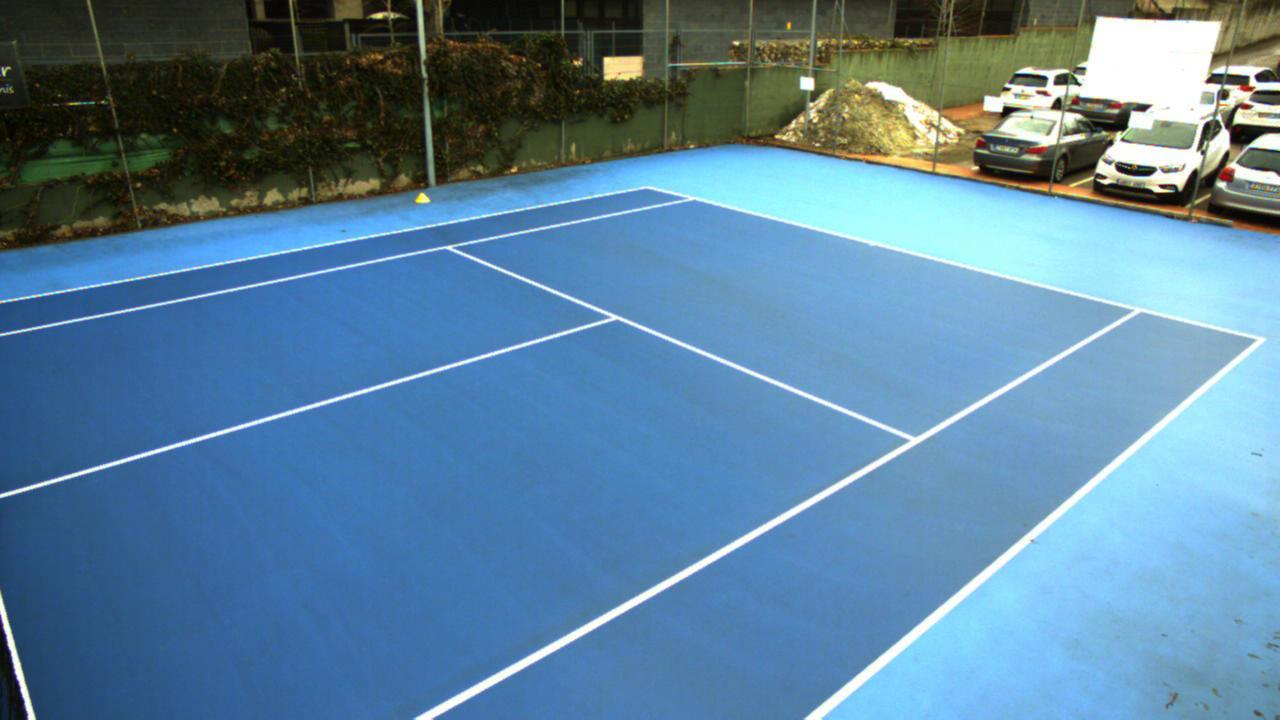cancha_tenis: (0, 197, 1143, 720)
point_f1: (683, 187, 703, 210)
point_f2: (1122, 299, 1147, 324)
point_fc1: (863, 236, 879, 252)
point_i1: (437, 234, 462, 256)
point_i2: (890, 424, 925, 457)
point_ic1: (599, 304, 627, 332)
